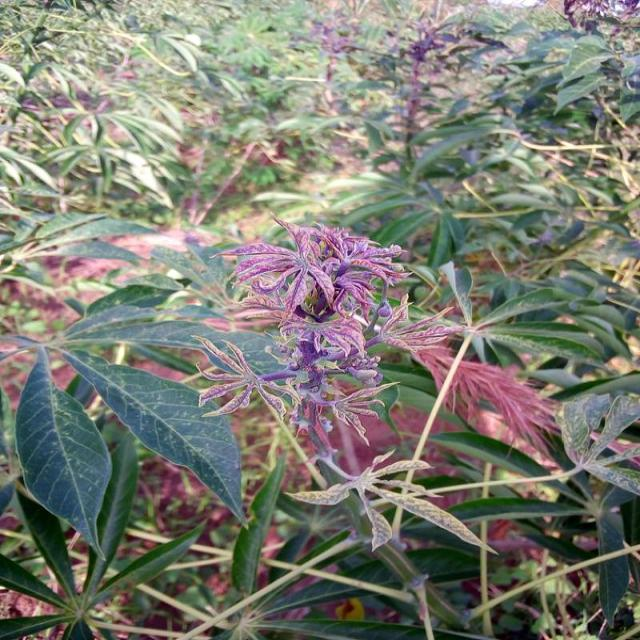cassava leaf: (58, 344, 249, 530), (13, 344, 112, 562)
